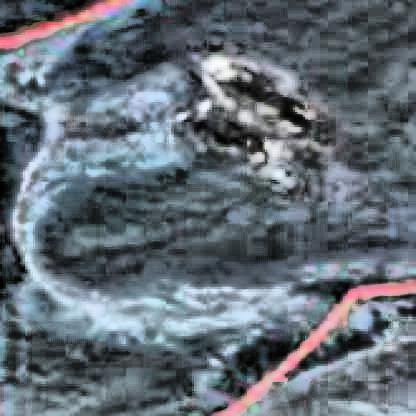sheen: (0, 0, 416, 380)
